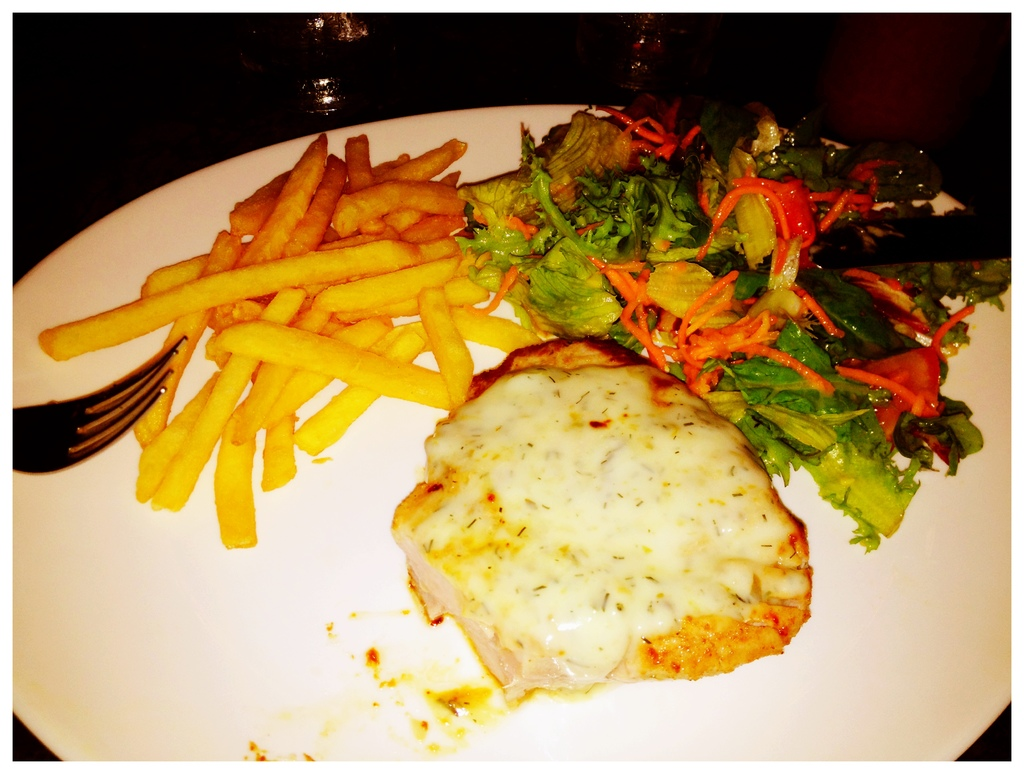French fries: (56, 133, 520, 546)
